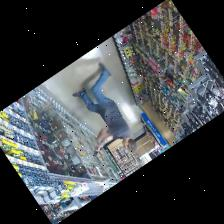person: (72, 62, 137, 152)
